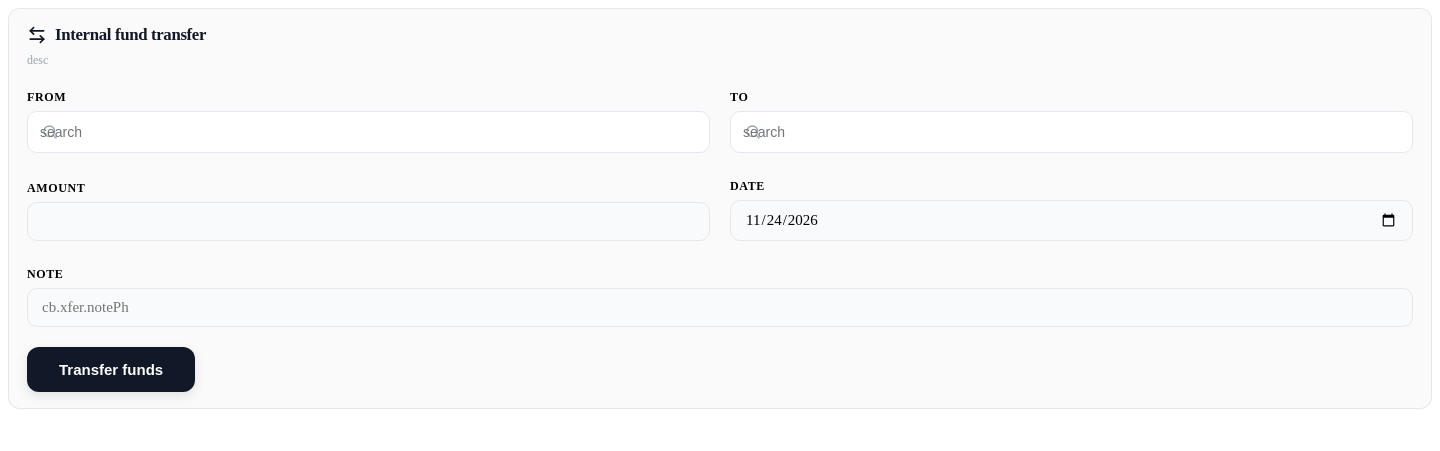
Test case: WorkshopCashBankTransferPanel › requires both accounts before submit
Click the button "Transfer funds".
click(111, 370)  # box [27,347,195,392]
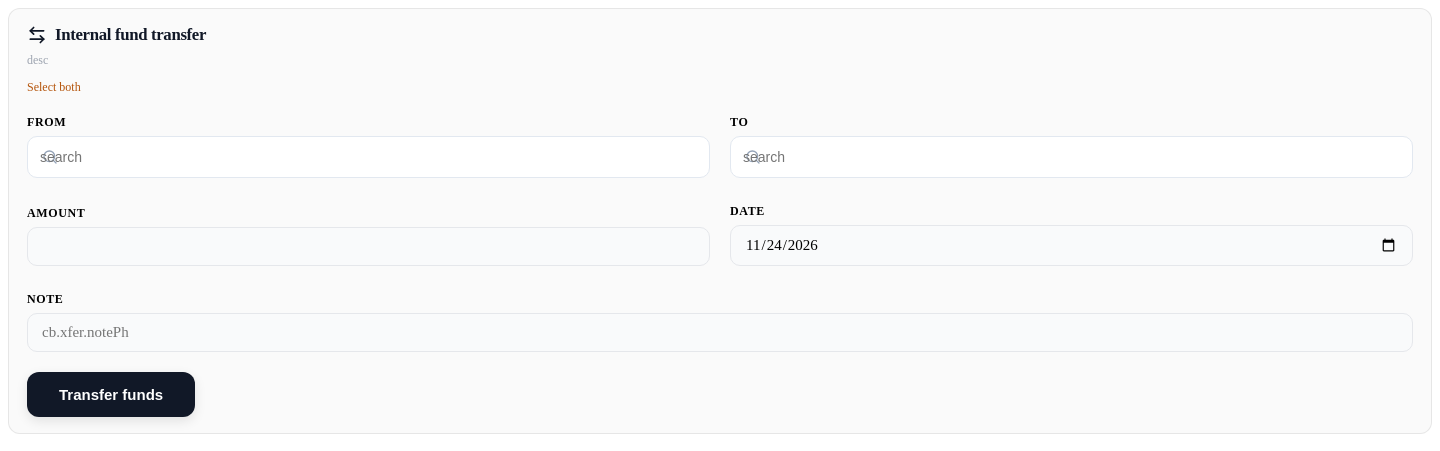
Result: the message reads "Select both" at [27,80,81,94]
